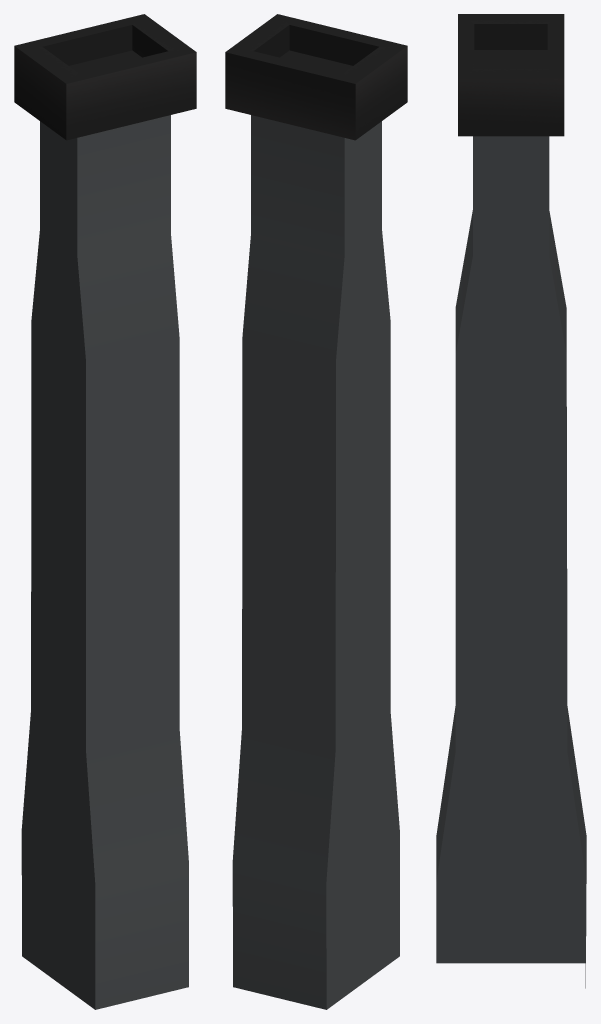
Rendered from fanasty_mod_lar_chimney03.fbx.
3 renders of one model, left to right at view 1: azimuth 30°, elevation 25°; view 2: azimuth 150°, elevation 25°; view 3: azimuth 270°, elevation 25°, orthographic.
Visible parts, largest first — view 1: large_chimney_03; view 2: large_chimney_03; view 3: large_chimney_03.
Boxes of the visible parts, box(x1,y1,x2,y2) form: large_chimney_03: box(14, 14, 196, 1009); large_chimney_03: box(225, 14, 407, 1009); large_chimney_03: box(436, 14, 586, 988).
Bounding box in the file's own units: 1.92 × 12.97 × 1.88.
